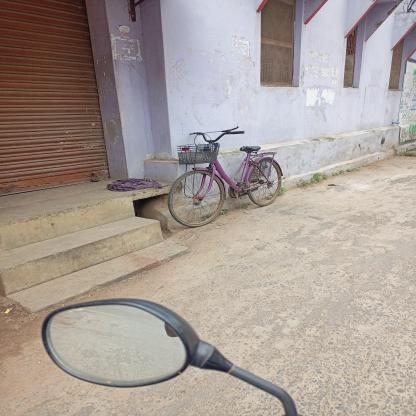bike: (148, 119, 311, 238)
